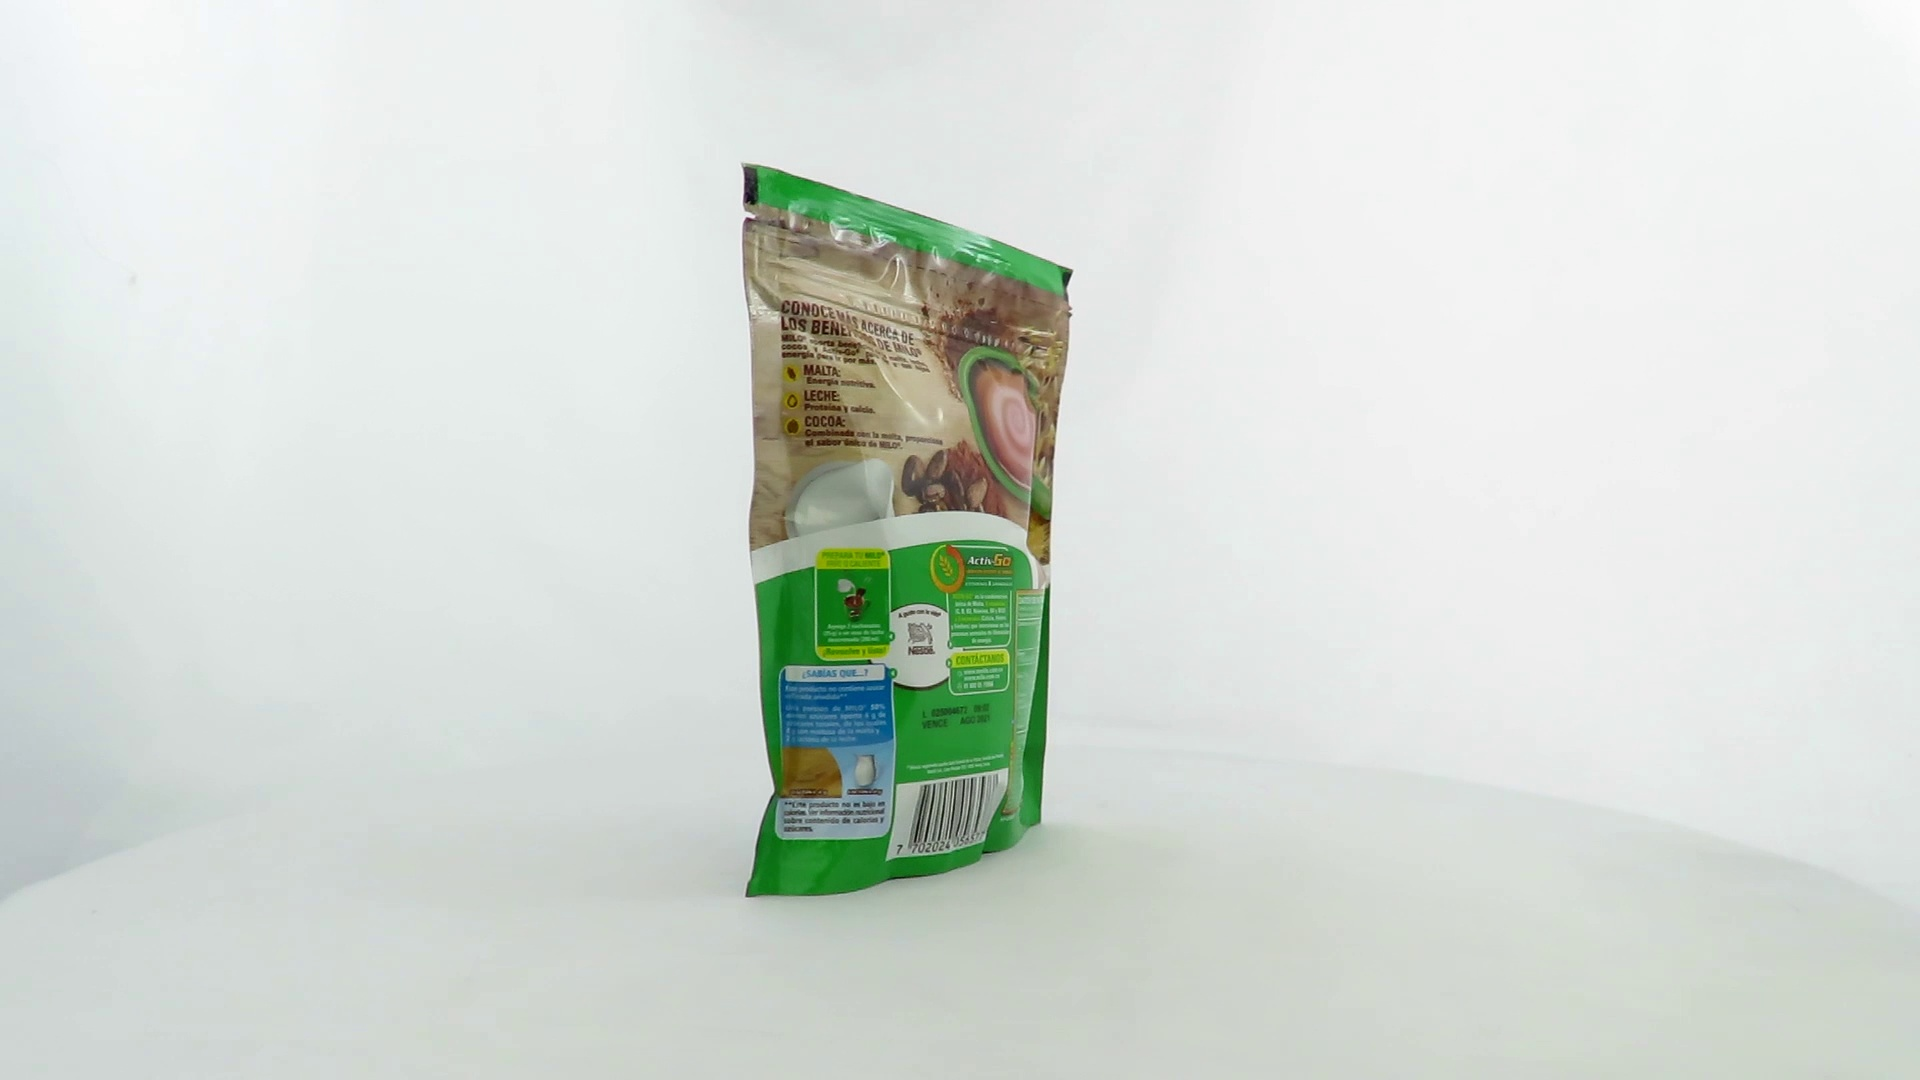COL0170205DYP20000: (736, 157, 1079, 905)
